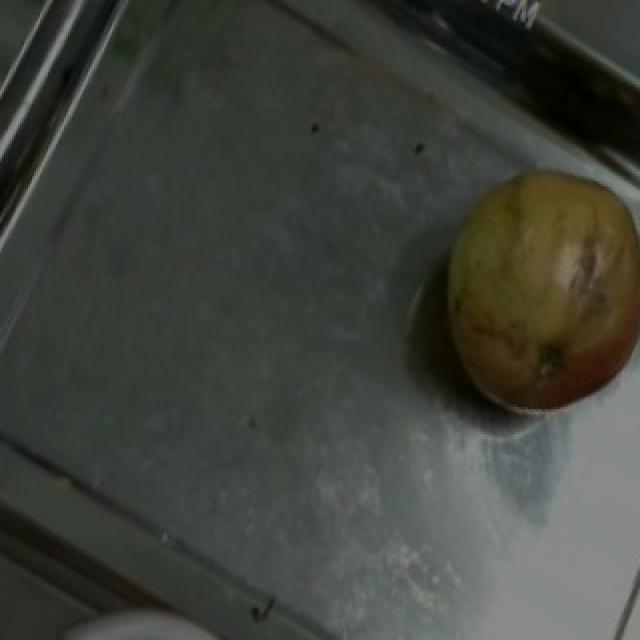fruit: (416, 134, 640, 402)
